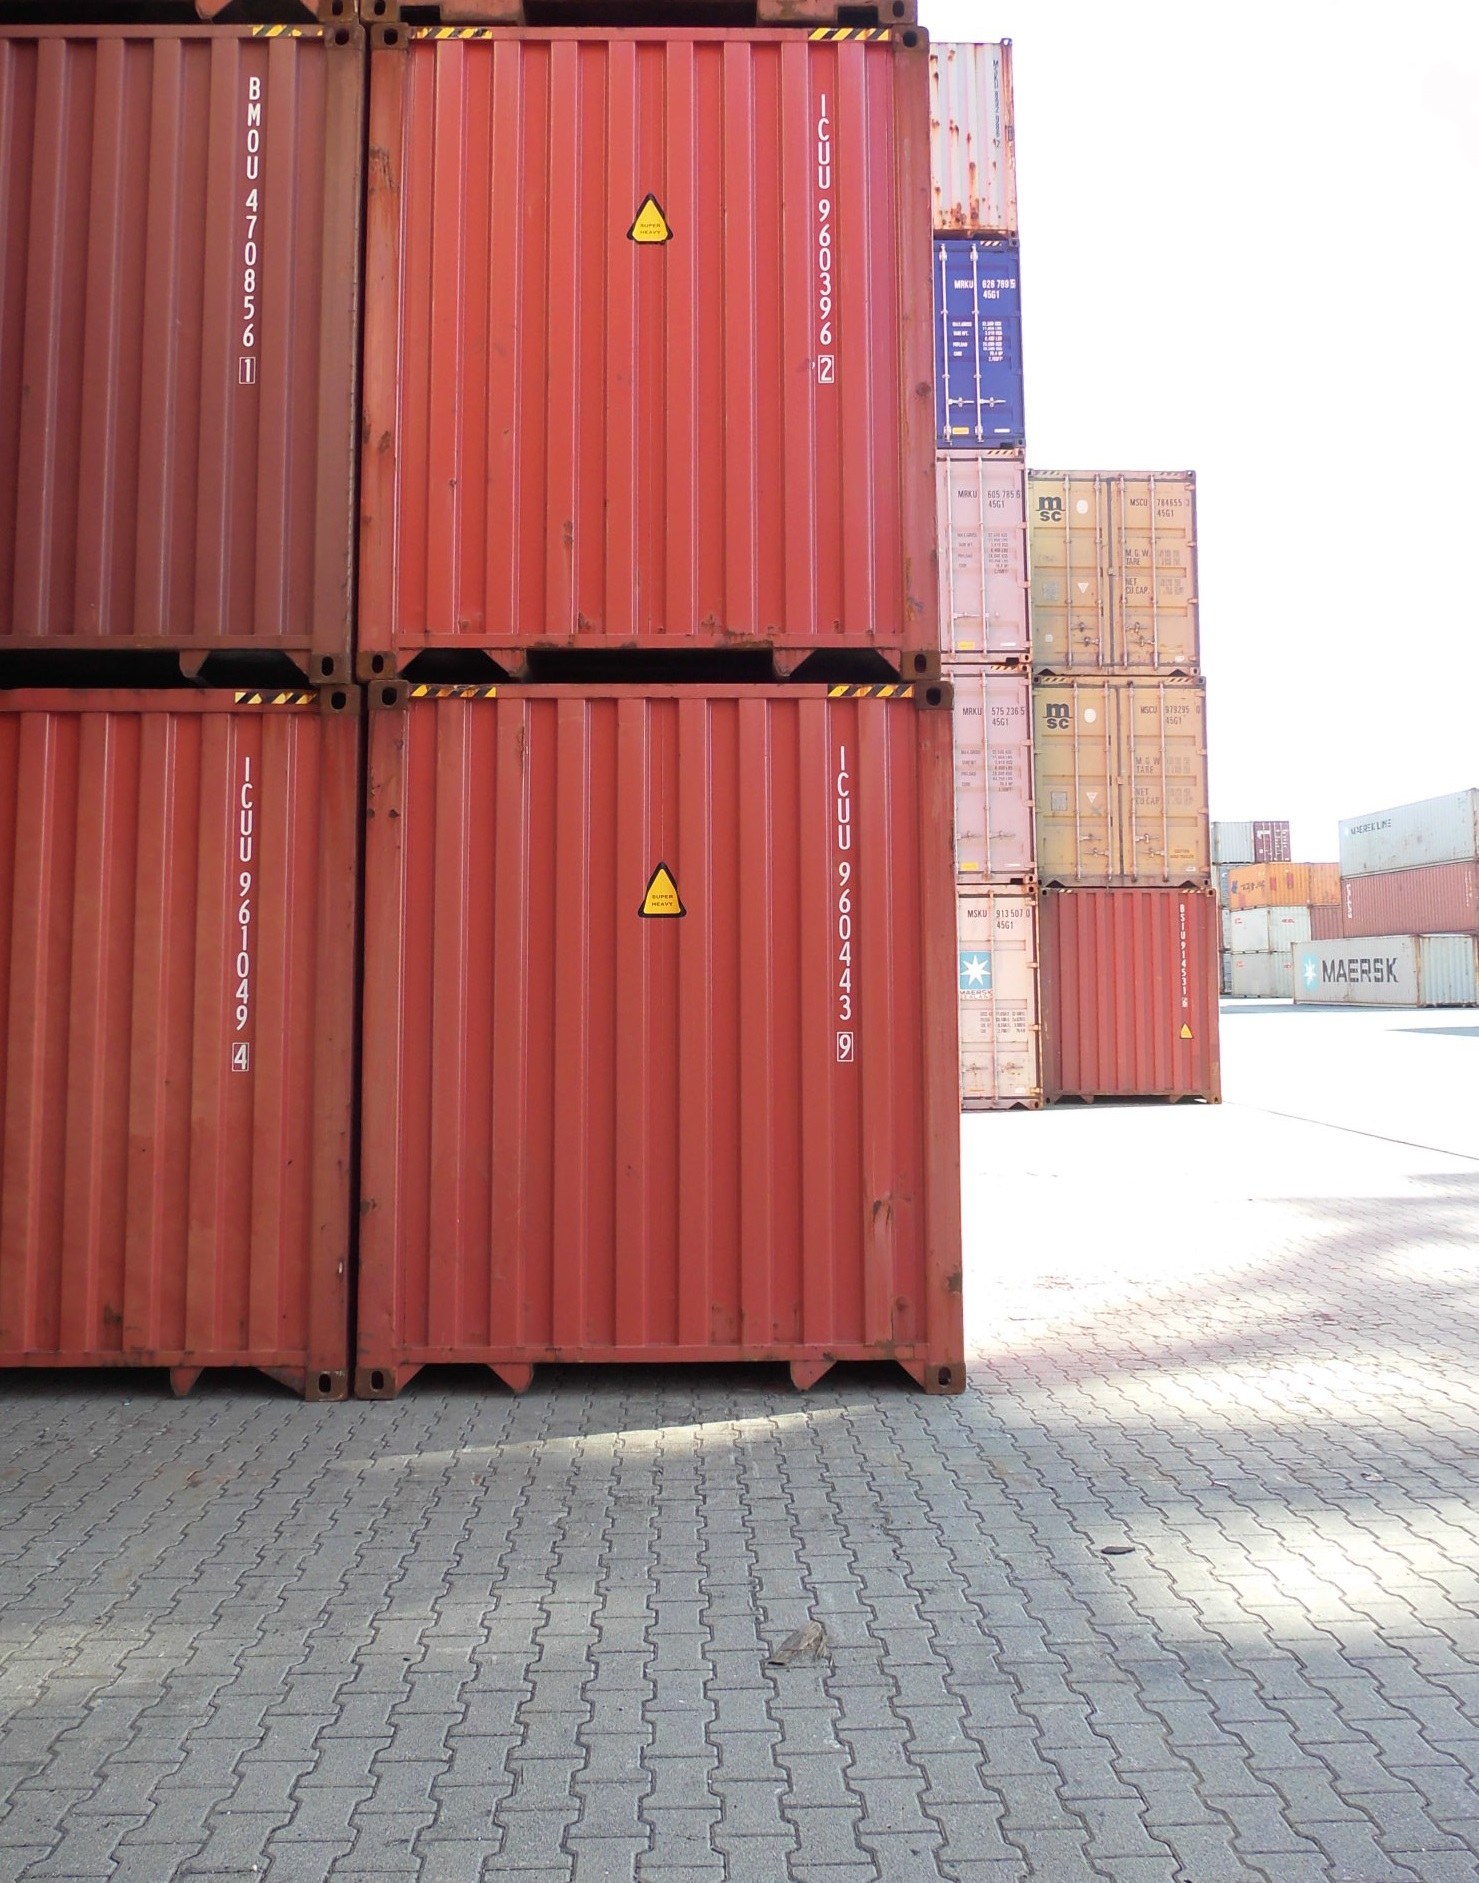container_door: (1030, 471, 1212, 682), (1044, 686, 1222, 891), (940, 665, 1044, 883), (956, 886, 1048, 1117), (940, 232, 1030, 455), (943, 459, 1033, 665)
container_no_door: (361, 683, 972, 1402), (371, 17, 947, 686), (11, 686, 348, 1398), (12, 14, 356, 679), (1053, 888, 1233, 1107), (940, 44, 1021, 228)
